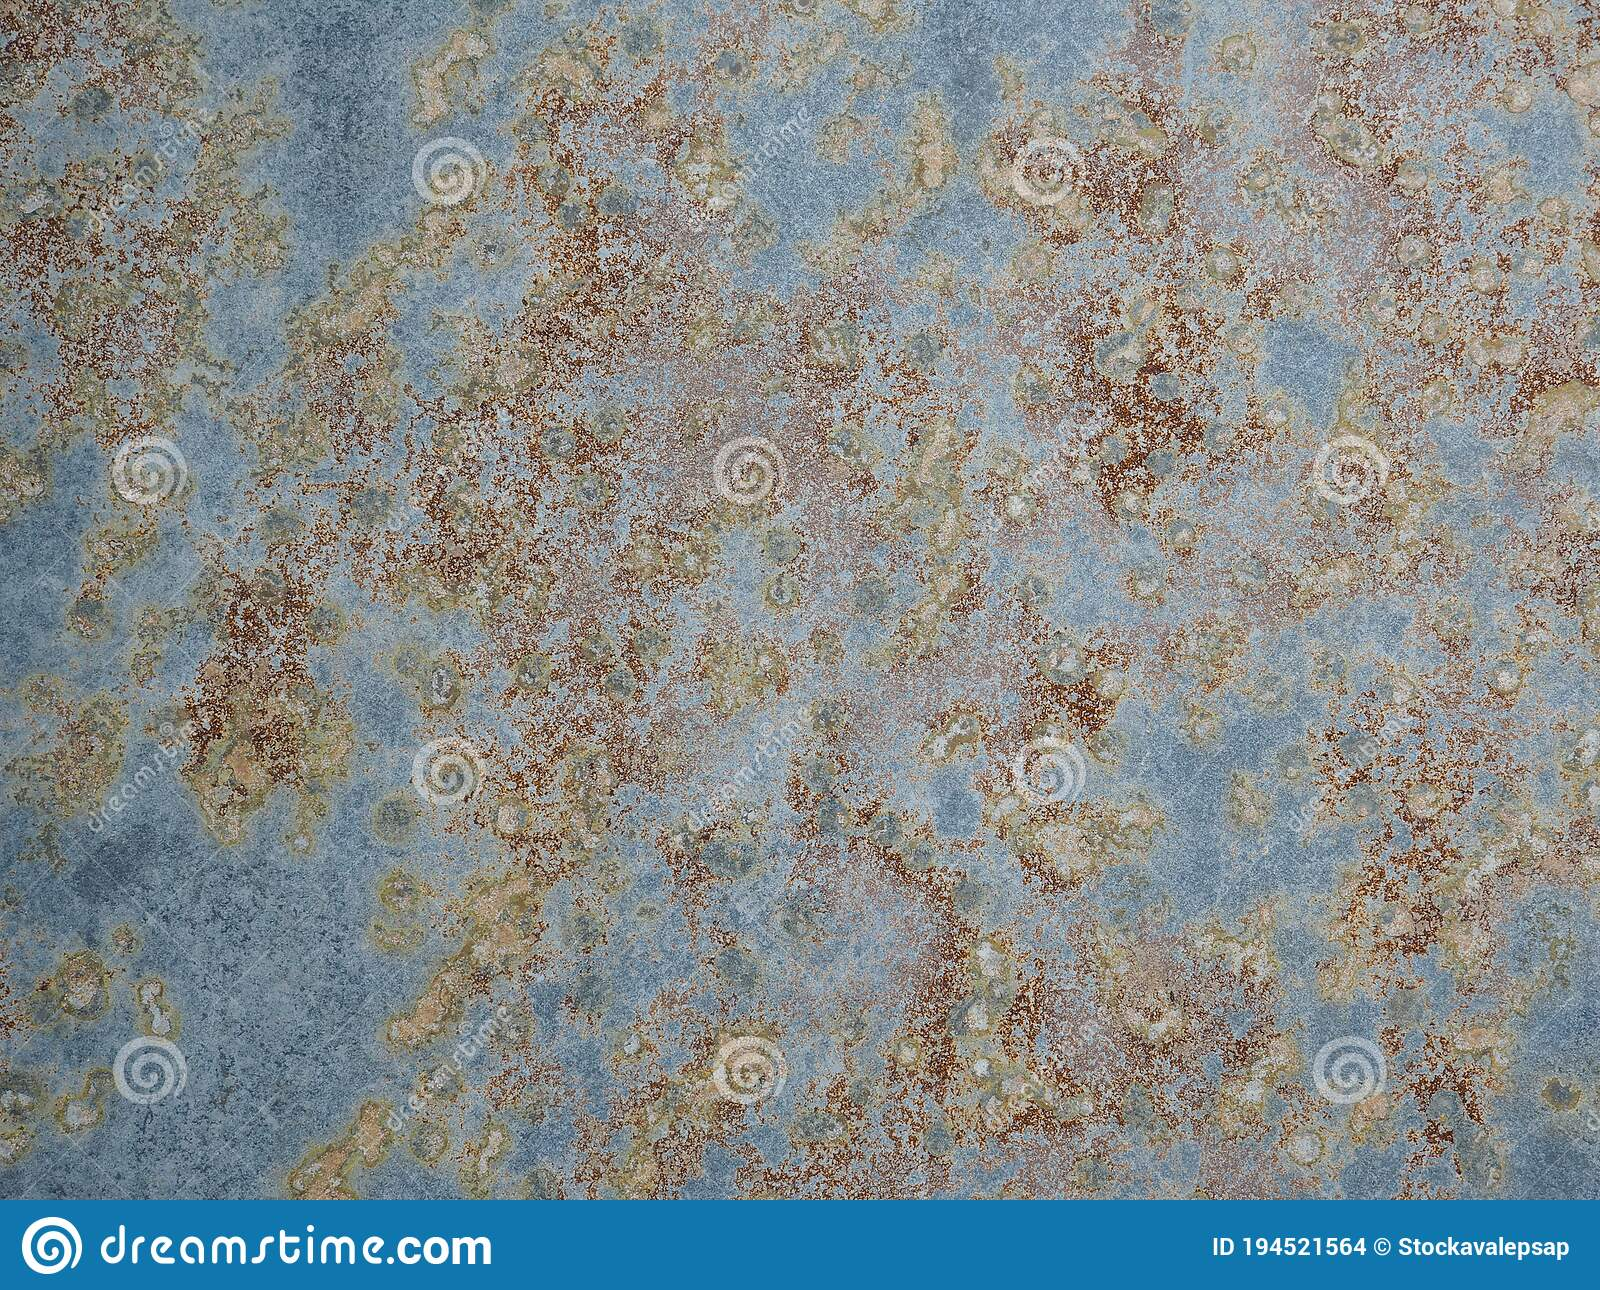rust: (203, 559, 332, 817), (1072, 336, 1220, 525)
